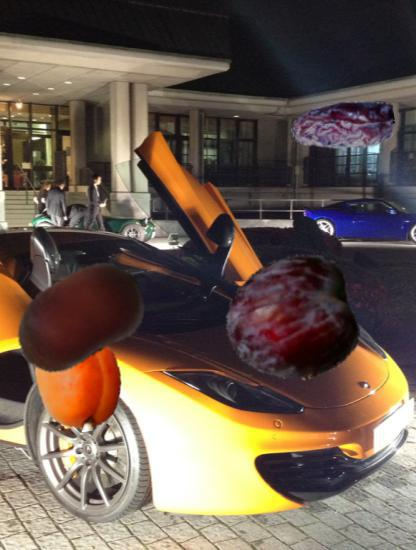Apricot: (31, 334, 129, 432)
Dates: (291, 74, 395, 178)
Nectarine: (12, 251, 148, 387)
Plum: (225, 253, 359, 387)
